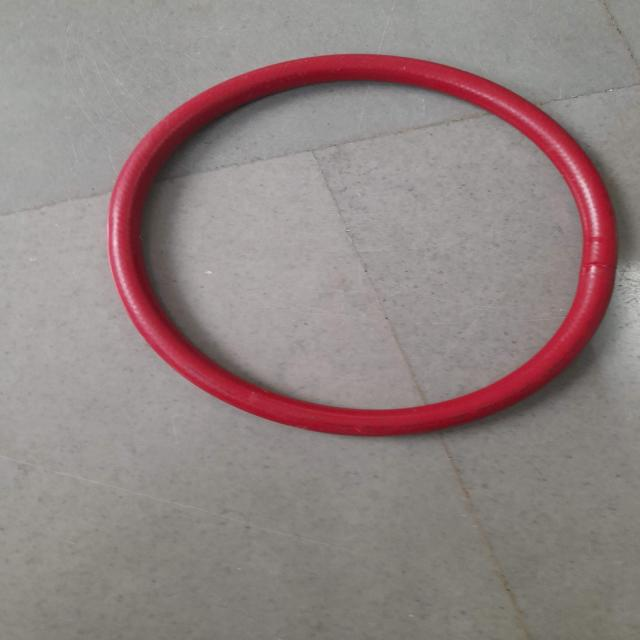daire: (109, 47, 620, 440)
